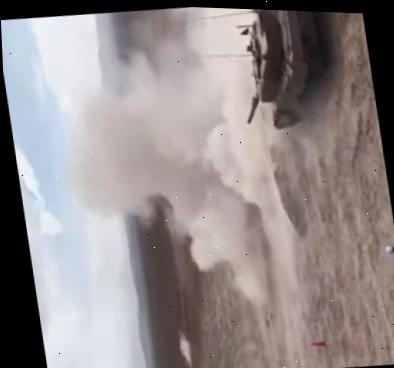tank: (228, 8, 339, 134)
